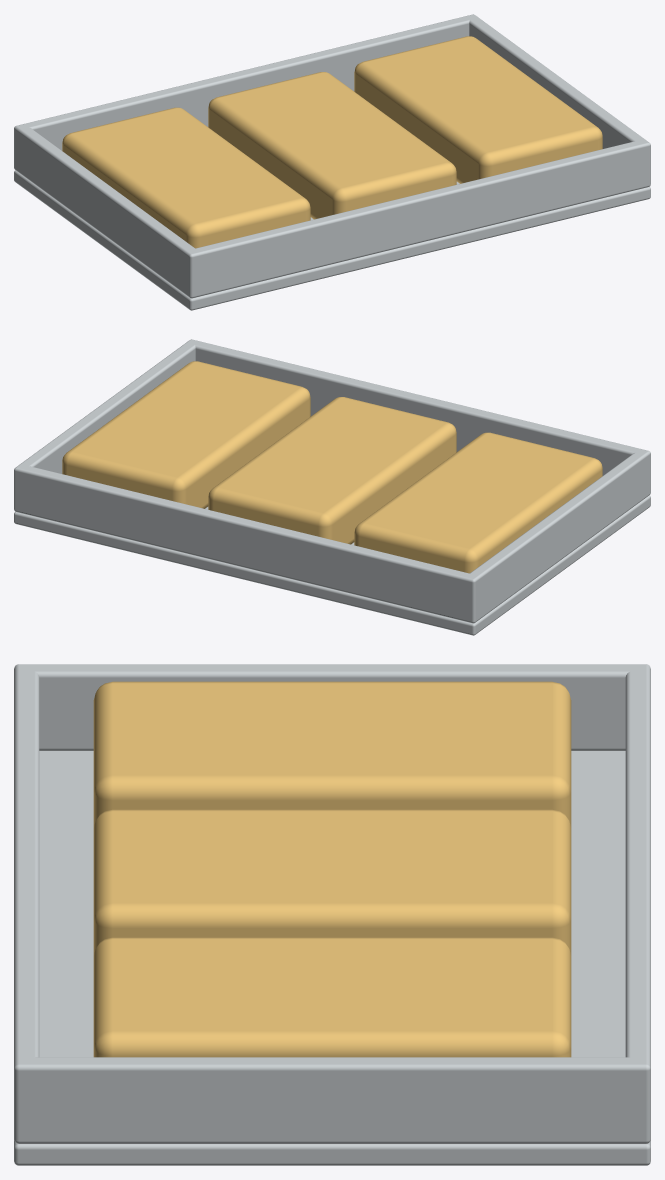
The model's file is candlemaking-and-soap-workshop-wax-block-tray-91643b5c__30651.glb.
3 views of the same model, one above another, from view 1: azimuth 30°, elevation 25°; view 2: azimuth 150°, elevation 25°; view 3: azimuth 270°, elevation 25° (orthographic). The views are drawn at different scales.
Visible parts, largest first — view 1: wax-block-tray; view 2: wax-block-tray; view 3: wax-block-tray.
Part boxes in pixels (x1,y1,x2,y2): wax-block-tray: (14,14,650,310); wax-block-tray: (14,339,650,635); wax-block-tray: (14,664,650,1165).
Bounding box in the file's own units: 0.6 × 0.075 × 0.4.
